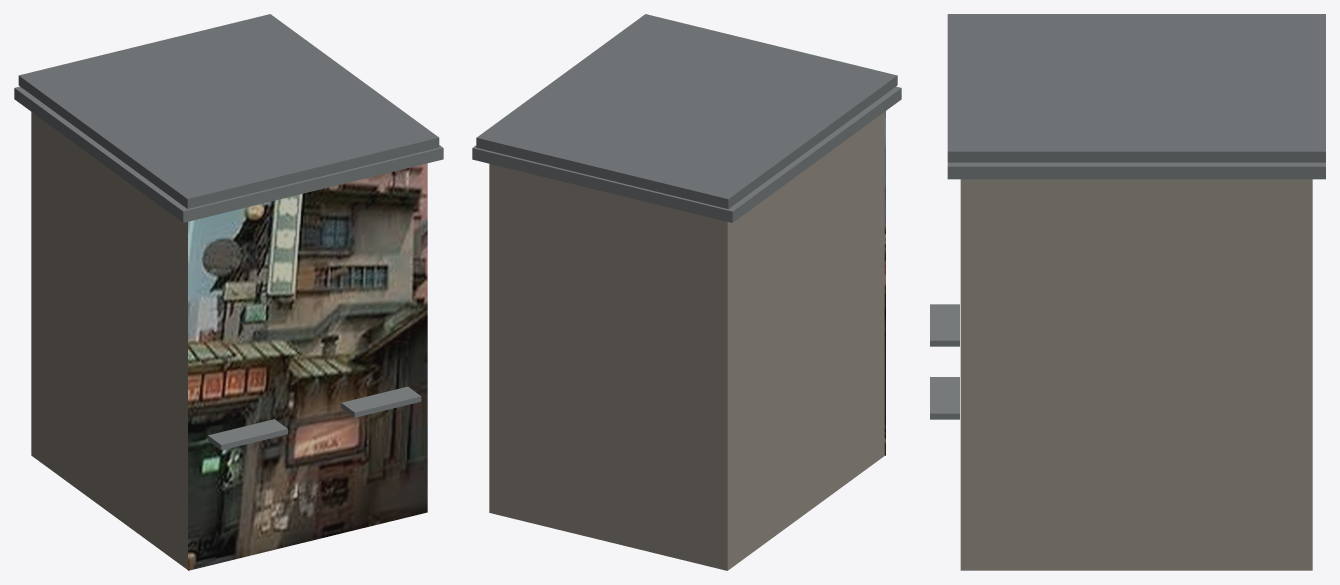
Rendered from old_shopfront.glb.
3 views of the same model, side by side, from view 1: azimuth 30°, elevation 25°; view 2: azimuth 150°, elevation 25°; view 3: azimuth 270°, elevation 25° (orthographic). The views are drawn at different scales.
Parts seen in each view (by area): view 1: photographic_facade, shell, metal_roof, roof_parapet, ledge_1_2.0, ledge_1_-2.0; view 2: shell, metal_roof, roof_parapet, photographic_facade; view 3: shell, metal_roof, roof_parapet, ledge_1_-2.0, ledge_1_2.0.
Part boxes in pixels (x1,y1,x2,y2): photographic_facade: (188, 163, 427, 570); shell: (31, 112, 187, 569); metal_roof: (18, 14, 439, 208); roof_parapet: (14, 86, 443, 222); ledge_1_2.0: (341, 386, 421, 417); ledge_1_-2.0: (208, 419, 287, 450); shell: (489, 112, 884, 570); metal_roof: (476, 14, 897, 208); roof_parapet: (472, 86, 901, 222); photographic_facade: (884, 111, 885, 455); shell: (960, 179, 1312, 570); metal_roof: (947, 14, 1325, 162); roof_parapet: (947, 162, 1325, 179); ledge_1_-2.0: (930, 304, 959, 346); ledge_1_2.0: (930, 377, 959, 419).
Bounding box in the file's own units: 7.65 × 10.6 × 9.
Materials: 1 (1 with a texture image).
